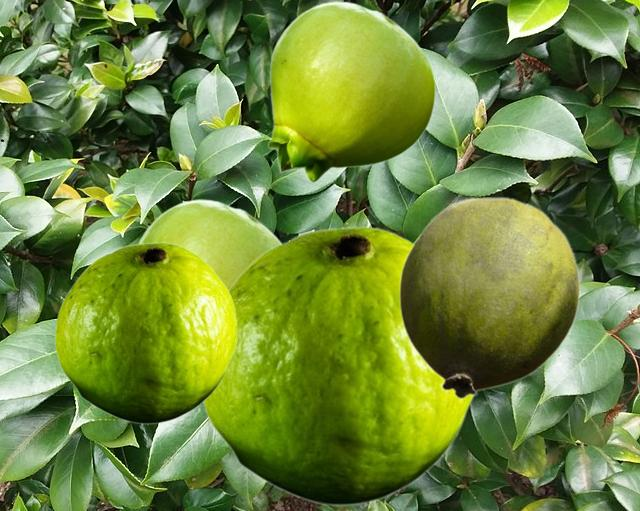guava: (201, 226, 476, 505), (398, 196, 580, 398), (54, 242, 236, 423), (267, 1, 435, 182), (136, 199, 283, 287)
